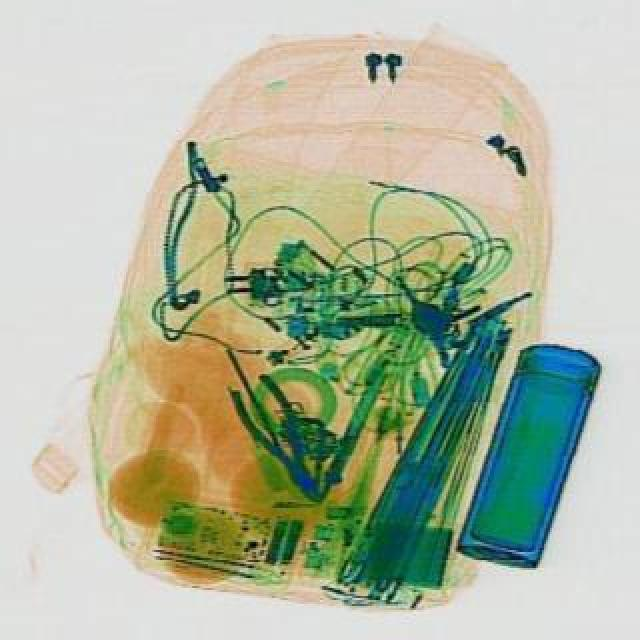wrench: (222, 368, 340, 512)
